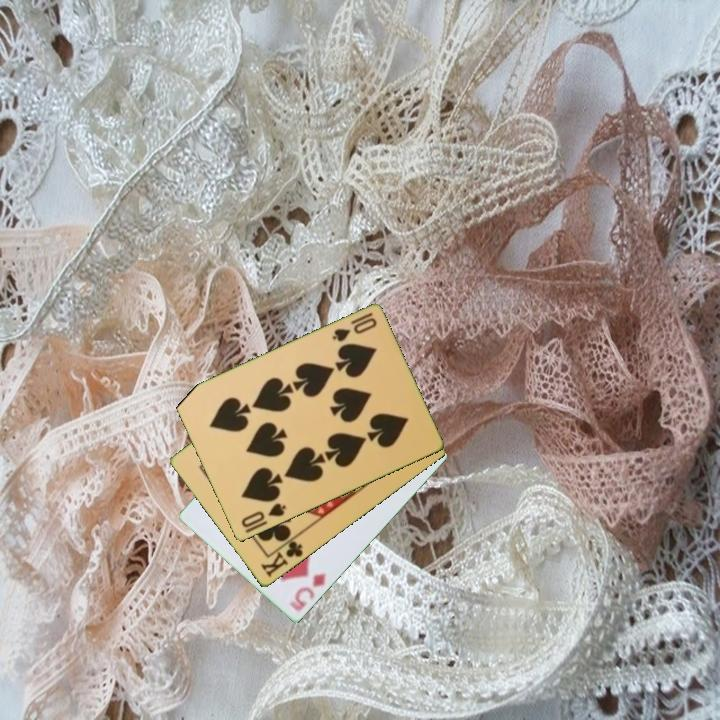10s: (328, 309, 380, 345), (238, 500, 289, 531)
5d: (286, 570, 329, 615)
Kc: (257, 532, 306, 581)
